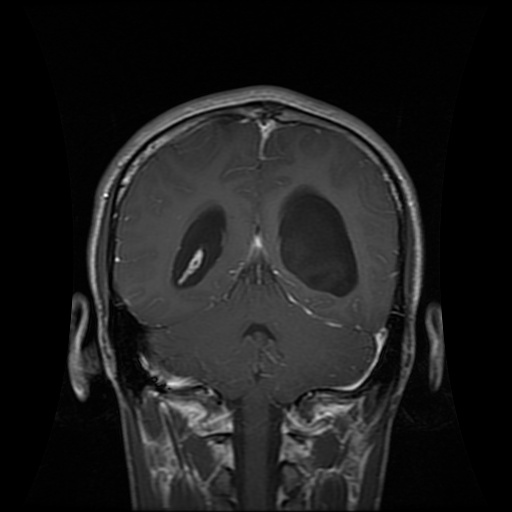glioma: (279, 186, 358, 296)
